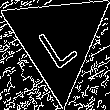L_NW: (33, 10, 83, 70)
